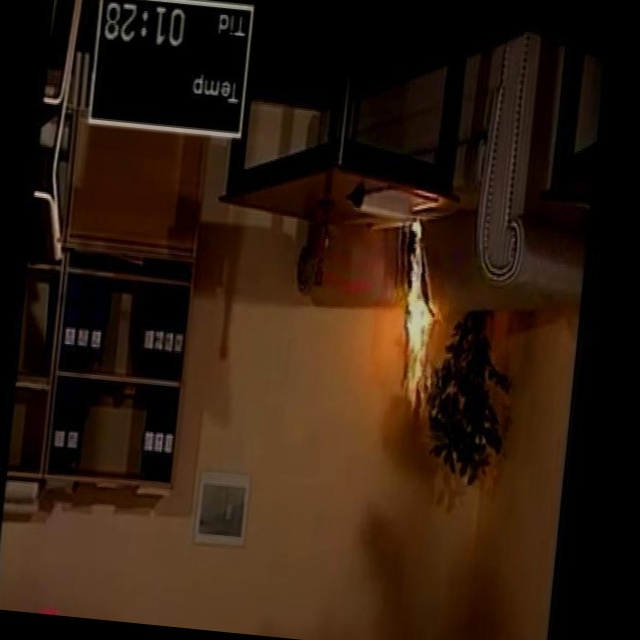fire: (378, 231, 449, 404)
